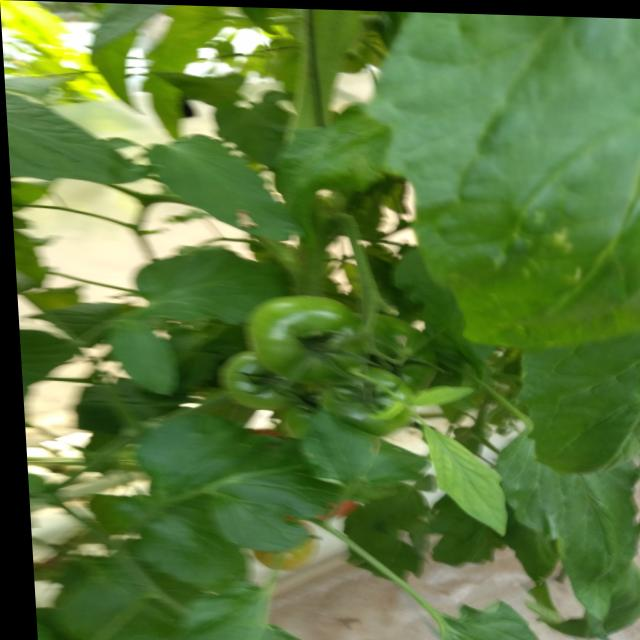yesil: (218, 271, 447, 482)
